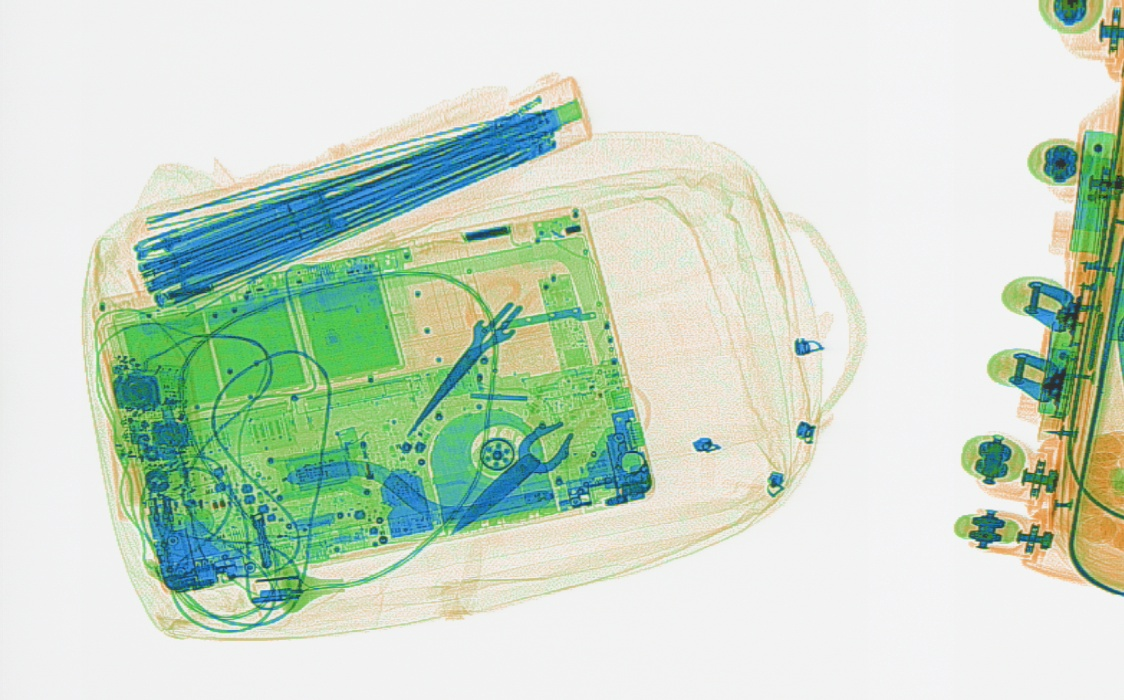lighter: (319, 417, 400, 530)
scissors: (450, 353, 653, 535), (404, 272, 577, 442)
